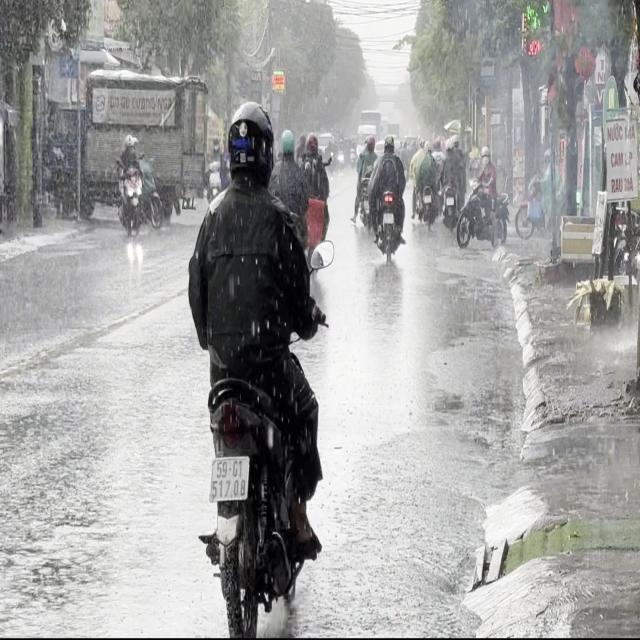helmet: (224, 99, 274, 188), (279, 126, 296, 158), (304, 131, 318, 156)
licenseplate: (184, 93, 330, 634)
nohelmet: (211, 456, 248, 500)
